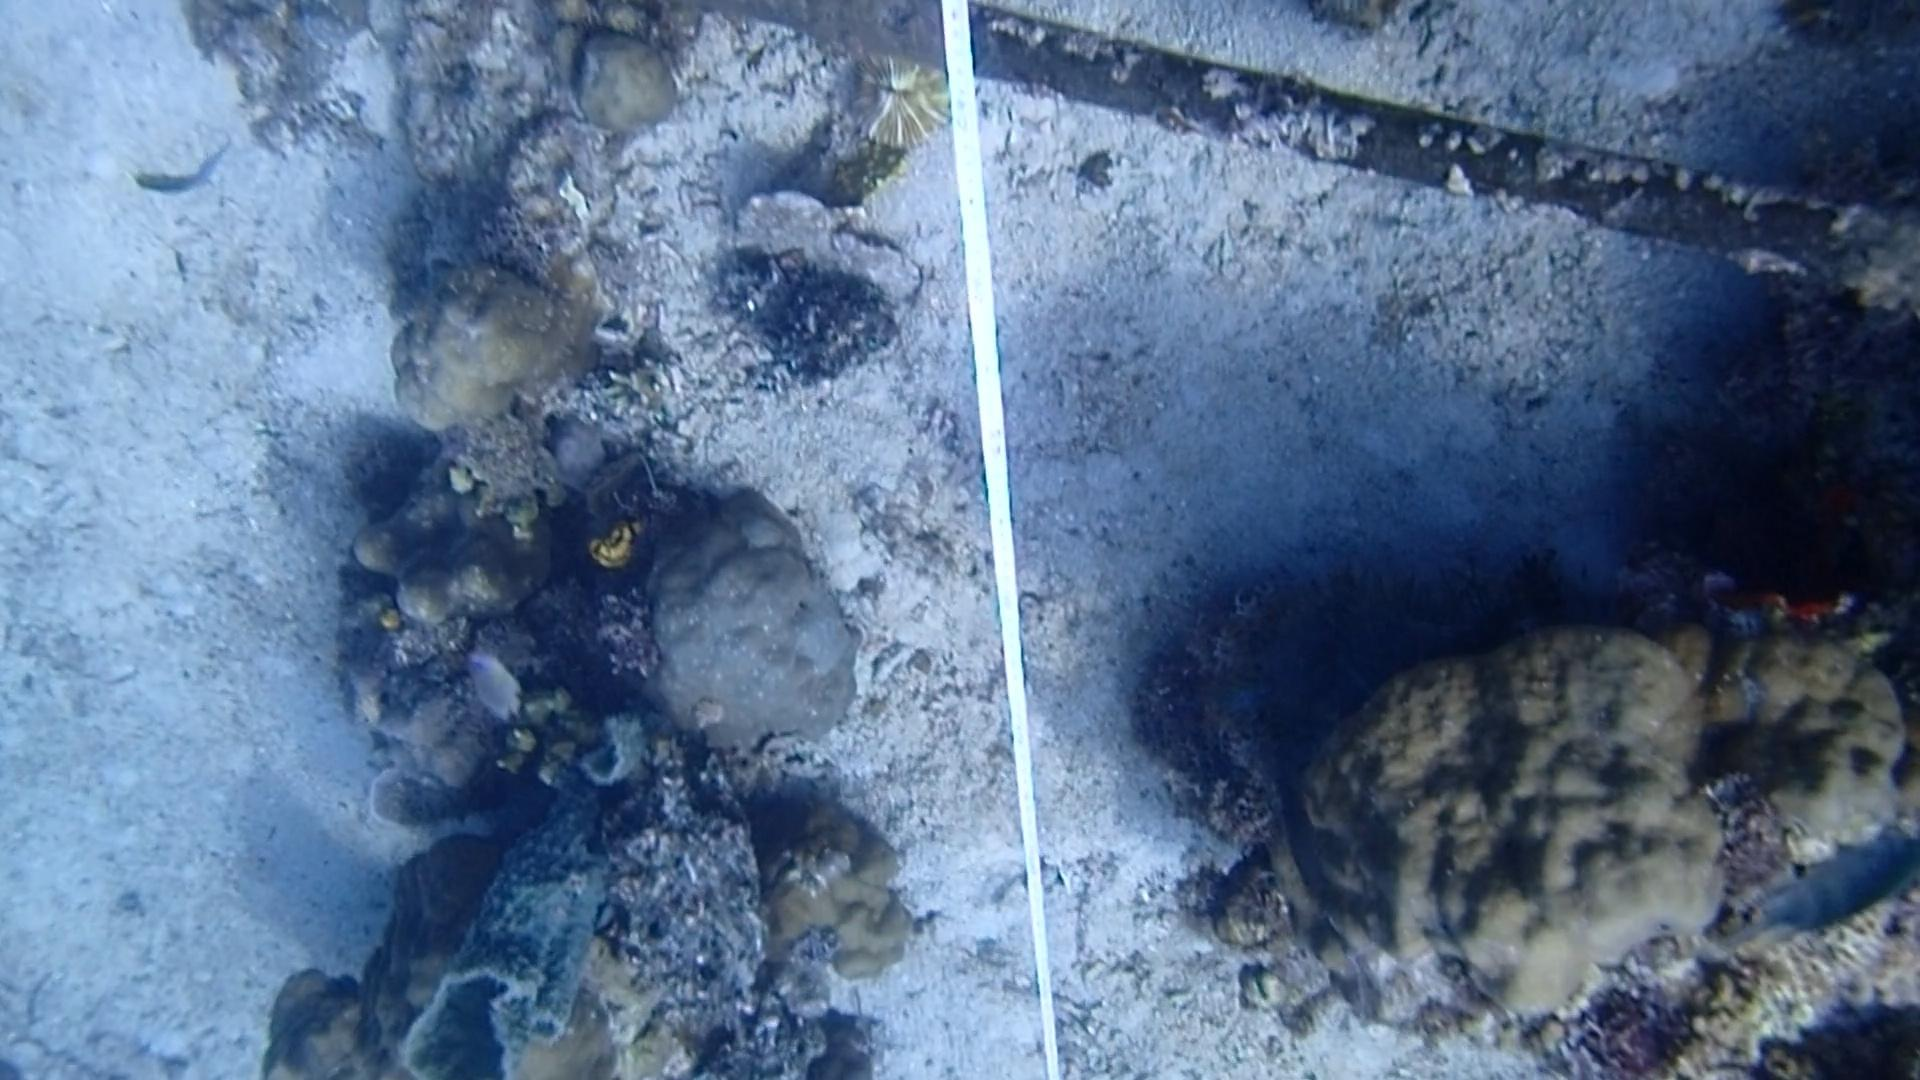Blue Fish: (1735, 822, 1920, 947)
Blue Nose Fish: (456, 645, 530, 727)
Dark Fish: (1258, 773, 1340, 899)
Striped Fish: (124, 144, 233, 214)
